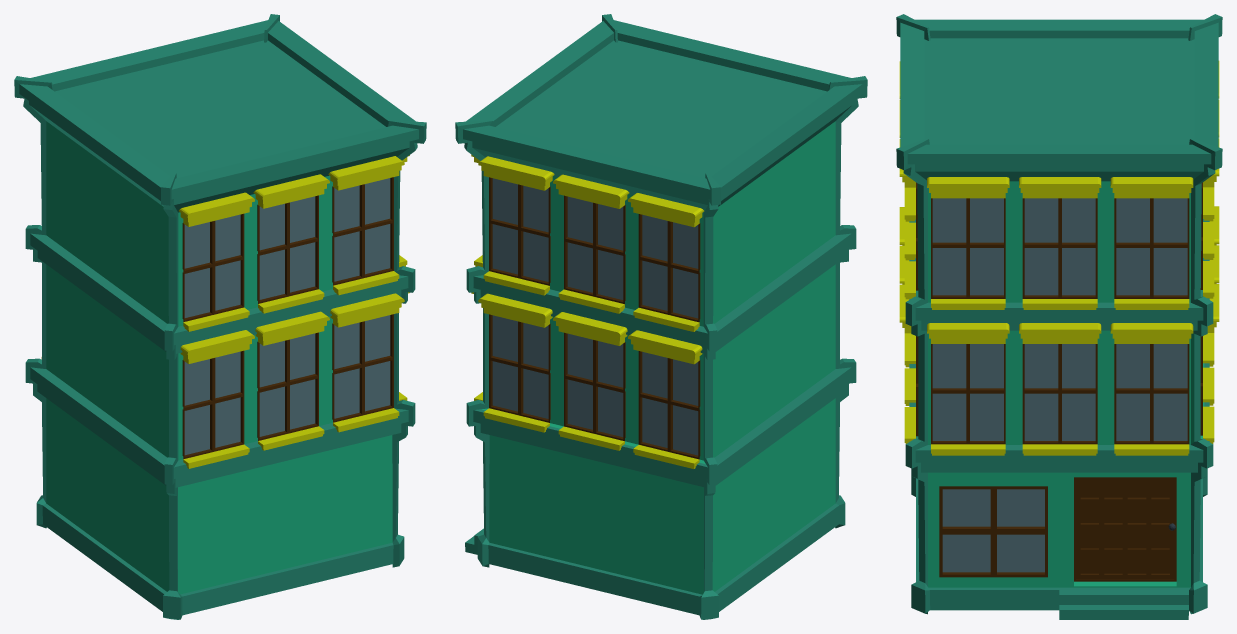
File: 3-Green.fbx
3 renders of one model, left to right at view 1: azimuth 30°, elevation 25°; view 2: azimuth 150°, elevation 25°; view 3: azimuth 270°, elevation 25°, orthographic. The views are drawn at different scales.
Visible parts, largest first — view 1: Cube.001; view 2: Cube.001; view 3: Cube.001.
Boxes of the visible parts, box(x1,y1,x2,y2) form: Cube.001: box(14, 14, 426, 619); Cube.001: box(455, 14, 867, 619); Cube.001: box(896, 14, 1222, 619).
Bounding box in the file's own units: 1421 × 1435 × 2274.
